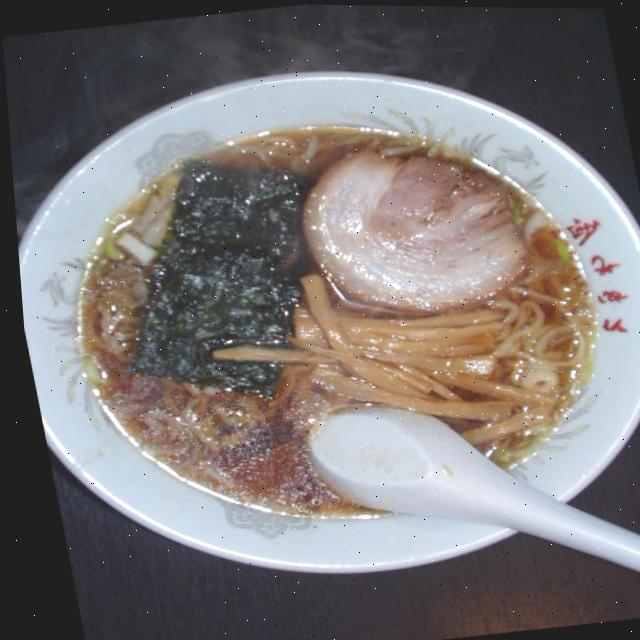面条主食: (1, 22, 640, 624)
